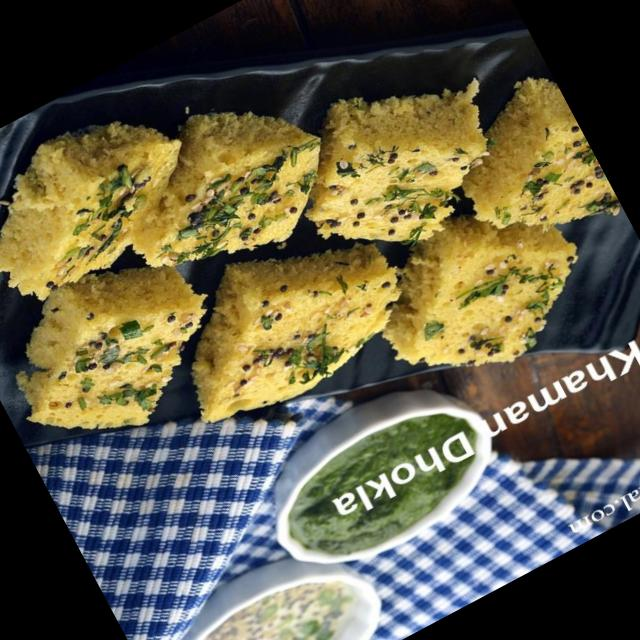dhokla: (0, 0, 620, 554)
